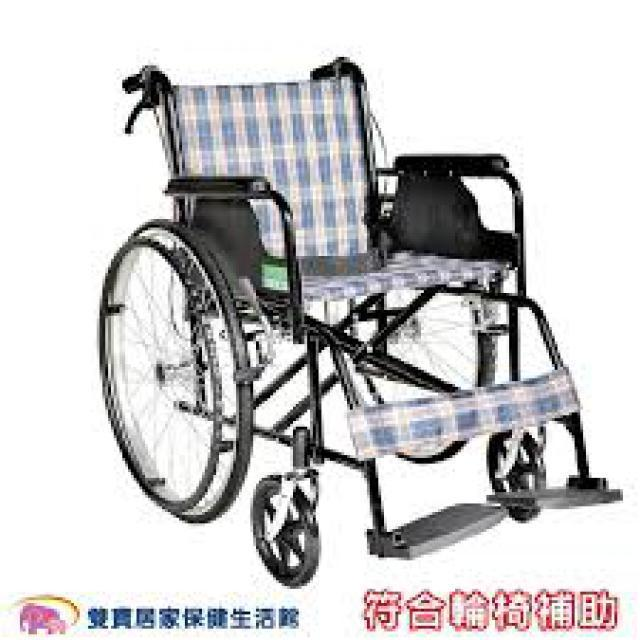wheelchairs: (98, 59, 612, 586)
